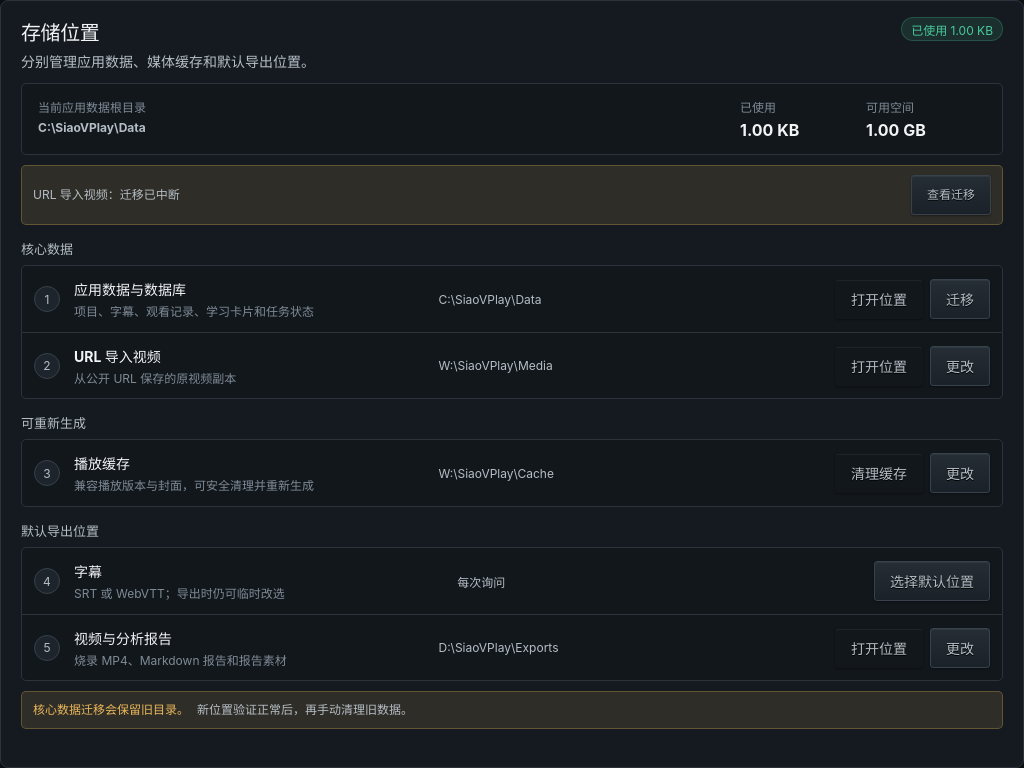
Test: StoragePane › surfaces an interrupted migration and offers resume
What coordinates should you click on to do the following:
click the button "查看迁移"
I would click on:
 (951, 195)
Its box is [911,175,991,215].
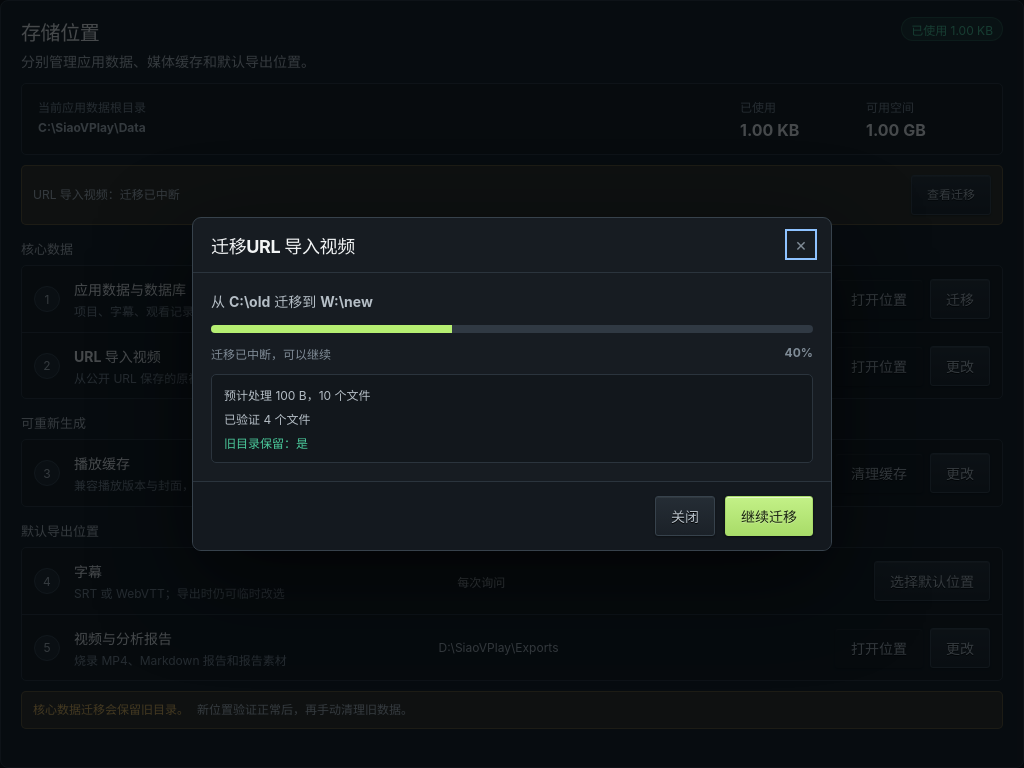
Result: the button "继续迁移" is shown at [725,496,813,536]
